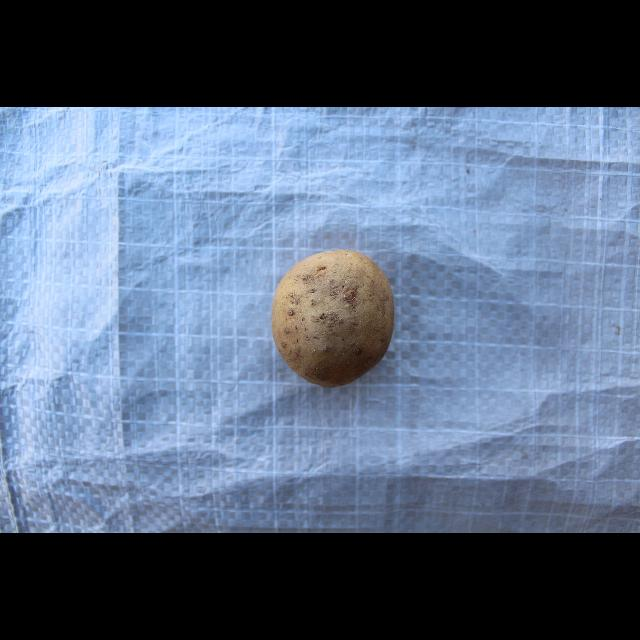Diseased-fungal potato: (268, 246, 392, 390)
